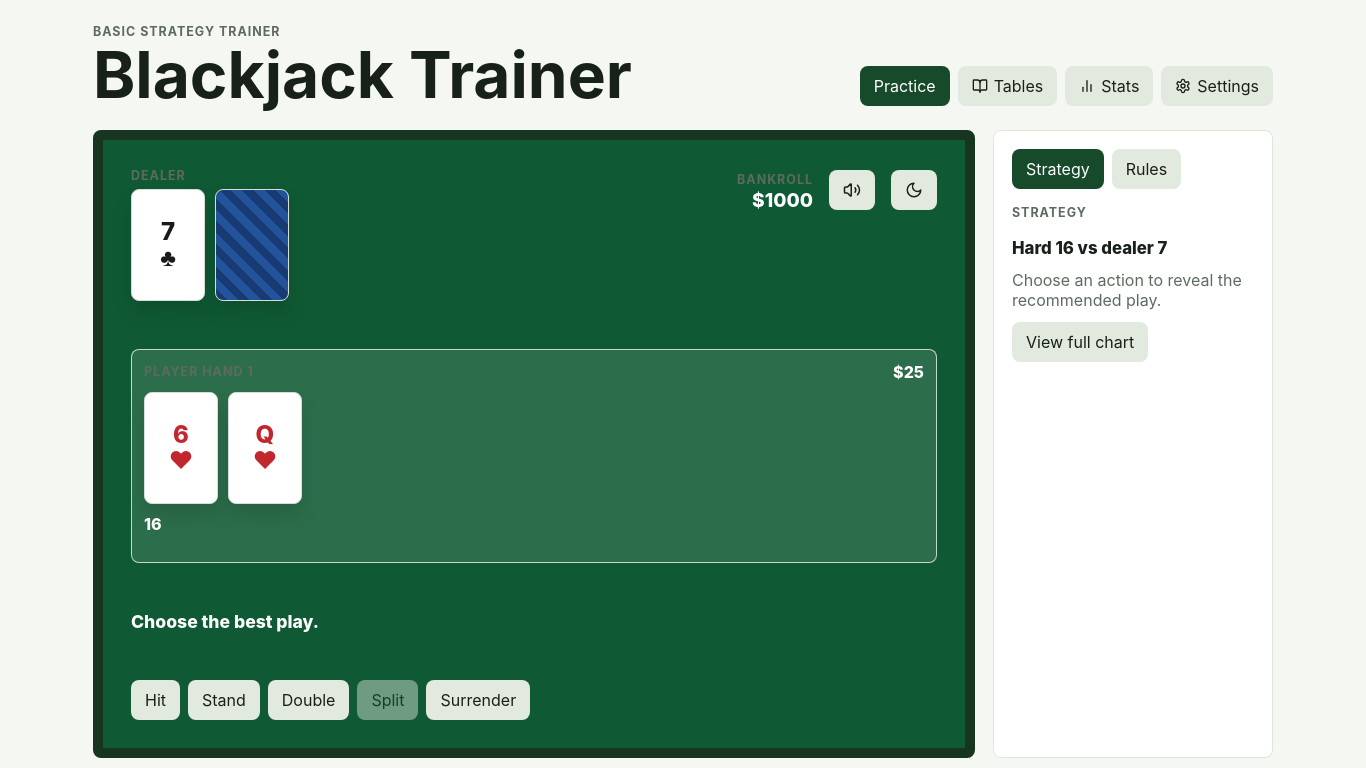
Test: App — changing table rules › does not deal a new hand or speak when a rule is changed mid-session
Click the button "Settings". click: [1217, 86]
box: 1161,66 -> 1273,106
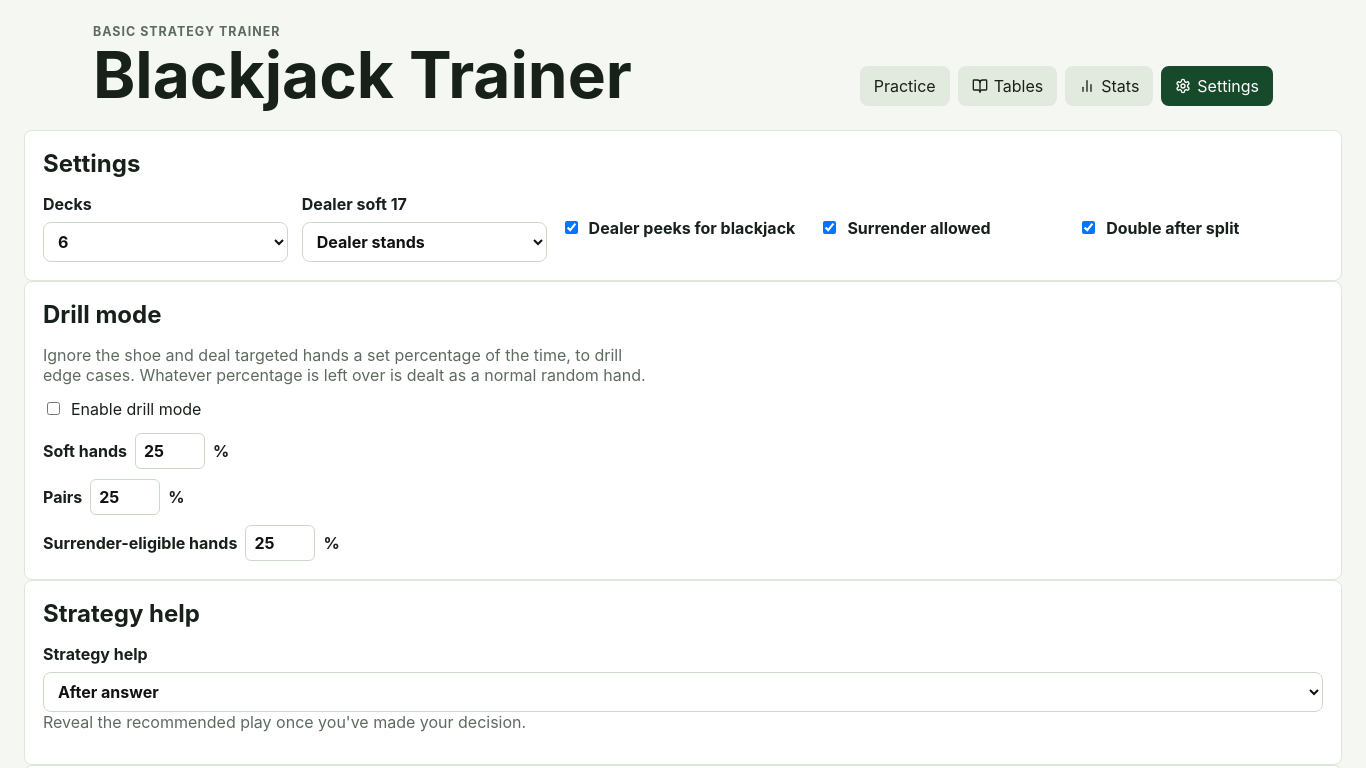
Select "Dealer hits" in the dropdown labelled "Dealer soft 17". click: [424, 242]
box: 302,222 -> 547,262
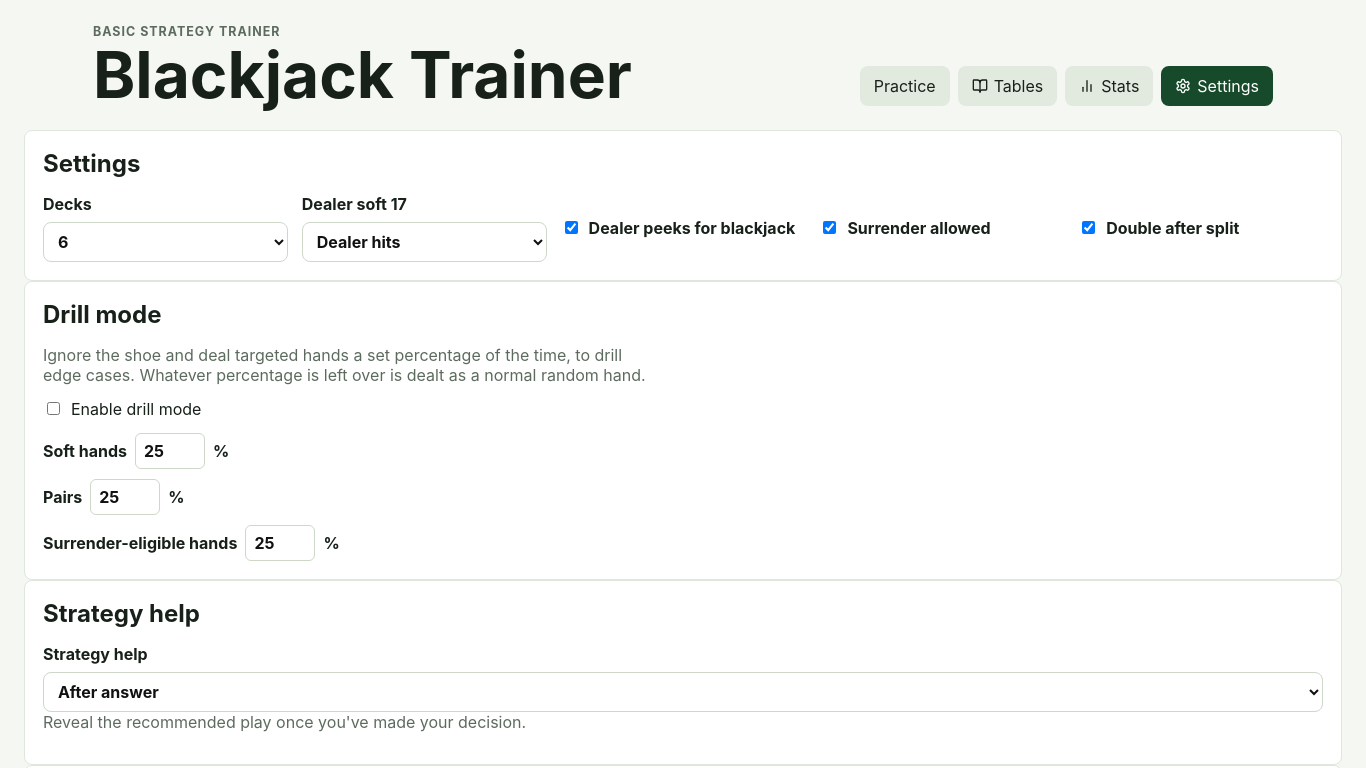
Click the button "Practice". click: [905, 86]
box: 860,66 -> 950,106
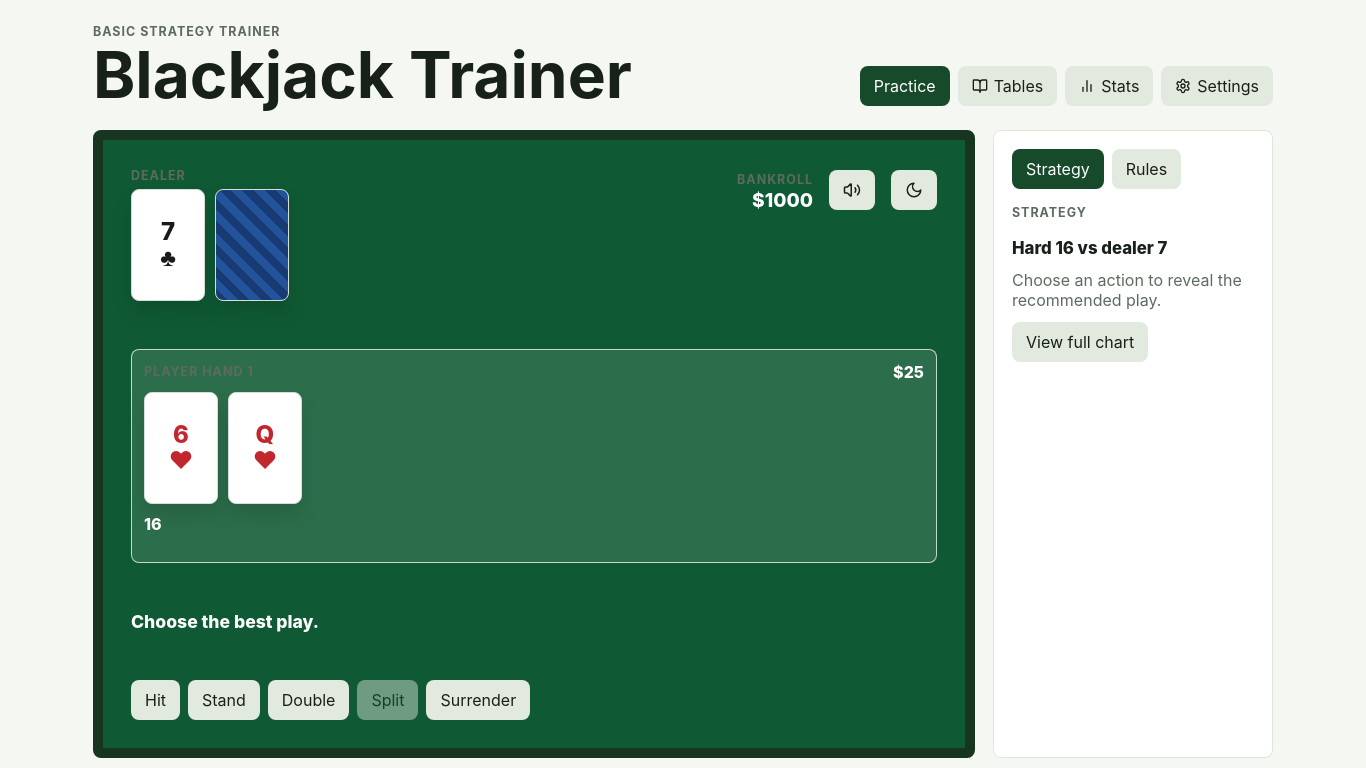
Expected: the text with class "round-message" reads "Choose the best play.", 131,611 -> 319,632
